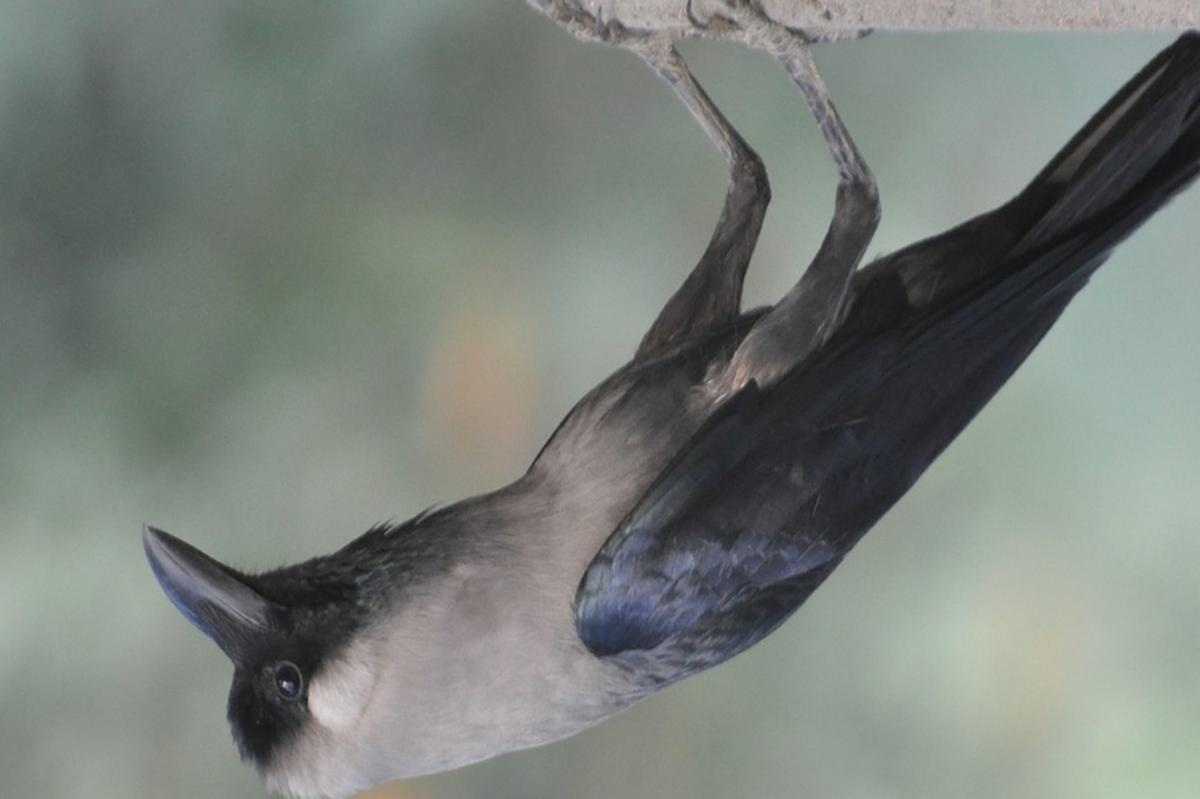crow: (141, 1, 1200, 796)
